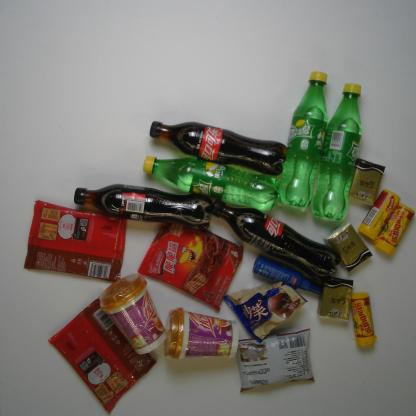Candy: (358, 189, 401, 242), (373, 204, 415, 256), (350, 291, 377, 348)
Dessert: (47, 296, 156, 413), (137, 214, 245, 309), (23, 200, 127, 282), (222, 282, 308, 341)
Drink: (212, 199, 340, 280), (142, 157, 281, 213), (150, 121, 286, 176), (312, 82, 362, 221), (279, 71, 329, 208), (74, 184, 213, 230)
Instant Drink: (100, 273, 168, 354), (164, 308, 239, 360)
Personal Hygiene: (252, 255, 324, 296)
Seasoner: (232, 328, 315, 392)
Tissue: (324, 222, 373, 272), (348, 159, 385, 206), (317, 276, 354, 322)
